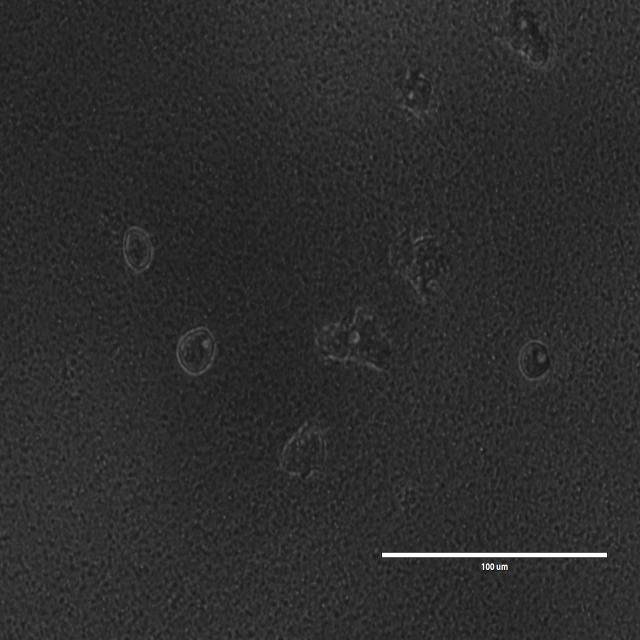Amoeba: (314, 306, 395, 374), (391, 237, 451, 297), (499, 10, 557, 70), (278, 421, 328, 476), (175, 324, 218, 381), (396, 67, 434, 115), (125, 225, 155, 272), (521, 339, 552, 382)
